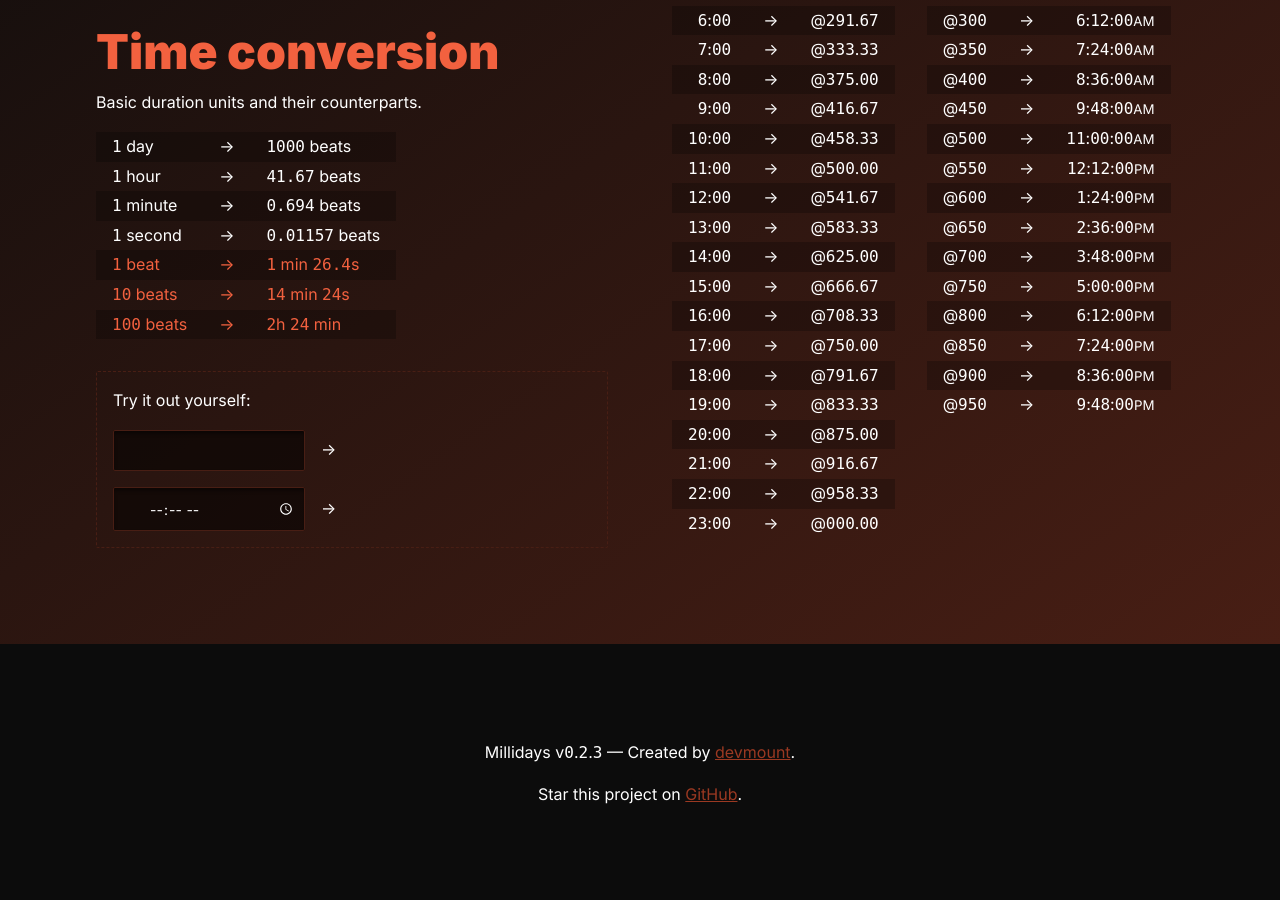
Test: App.vue › converts an entered beats value to local time
(page scrolled)
Type "500" into the number field. click: coordinates (209, 450)
box: [113,430,305,471]
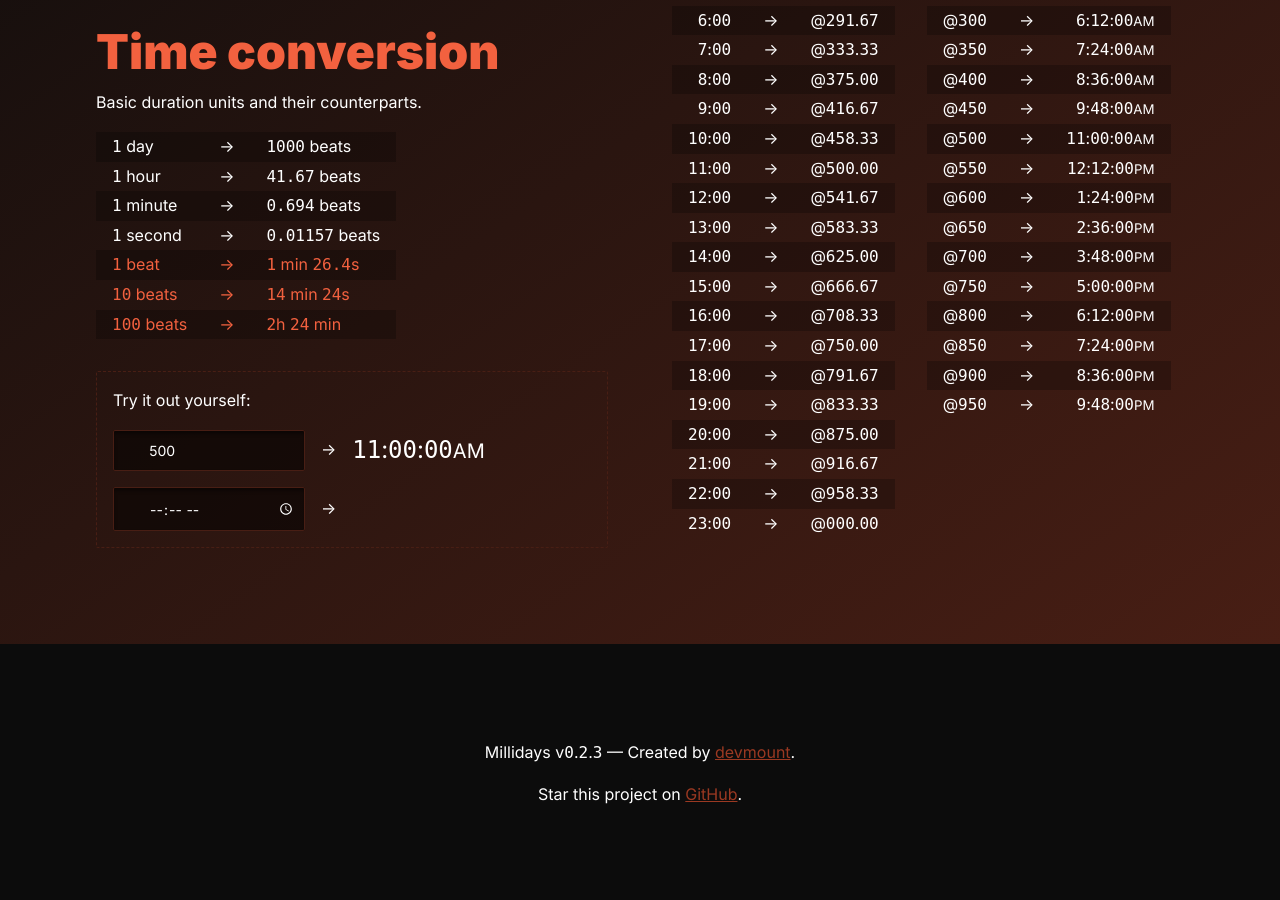
Expected: the element with class "result" reads "11:00:00AM", [352,431,485,469]
